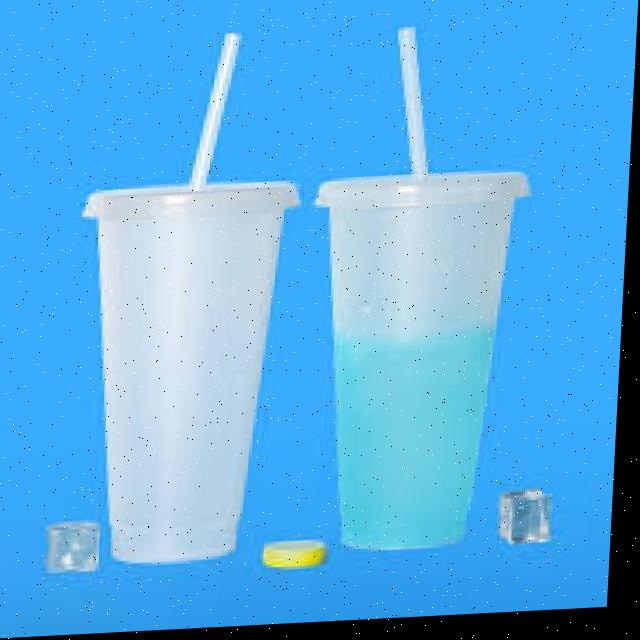cup: (284, 115, 552, 580), (52, 152, 314, 593)
